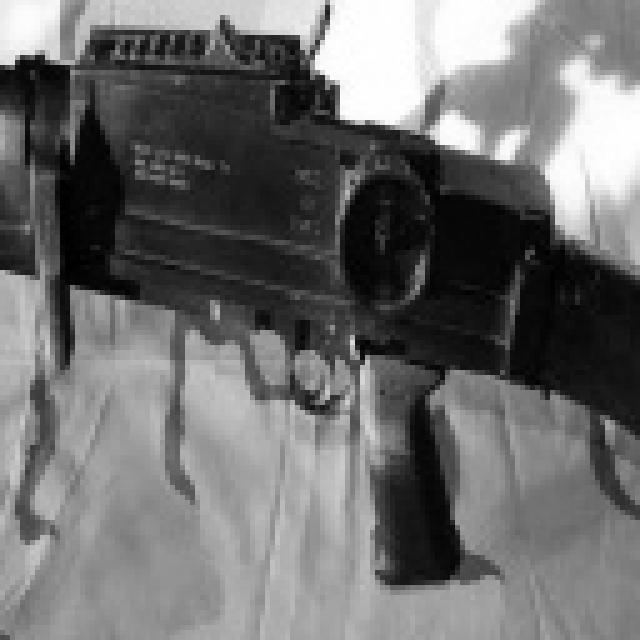Rifle: (0, 1, 640, 591), (23, 29, 640, 557), (0, 29, 19, 31)
